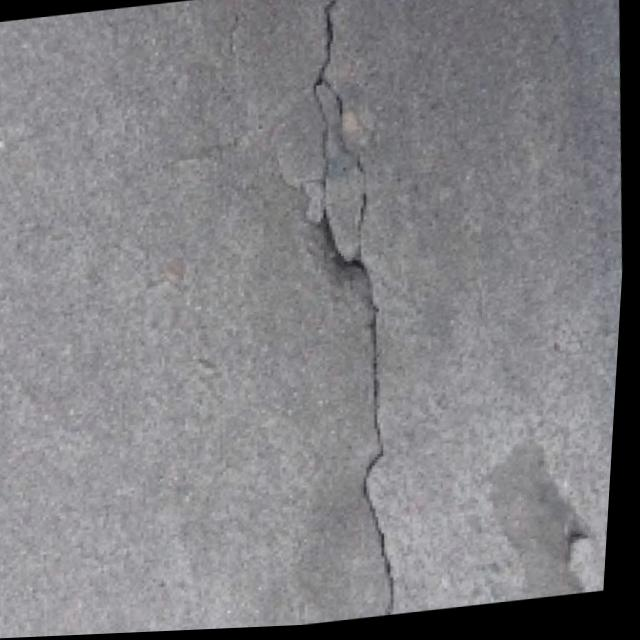Crack: (230, 0, 462, 631)
